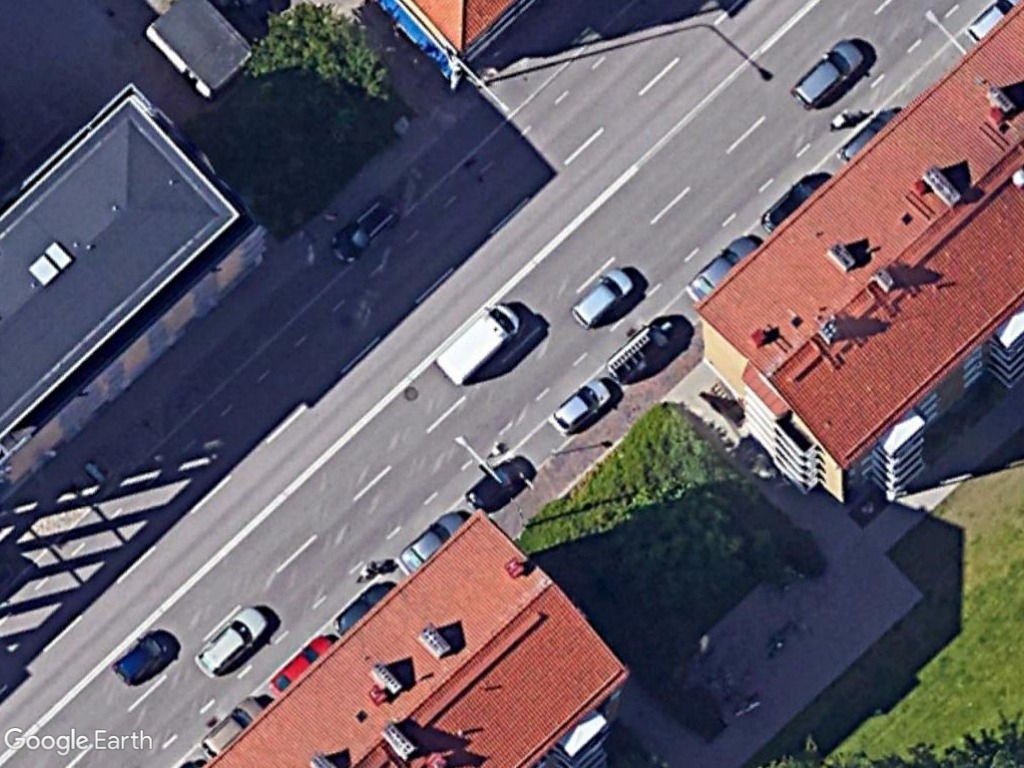car: (787, 36, 867, 113), (324, 190, 401, 270), (194, 601, 270, 680), (568, 261, 637, 329), (547, 372, 616, 439), (111, 626, 180, 684)
van: (433, 299, 525, 385)
